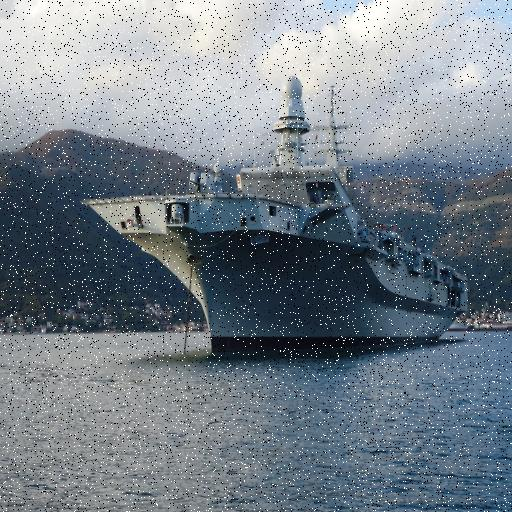Portanaves: (80, 72, 471, 361)
